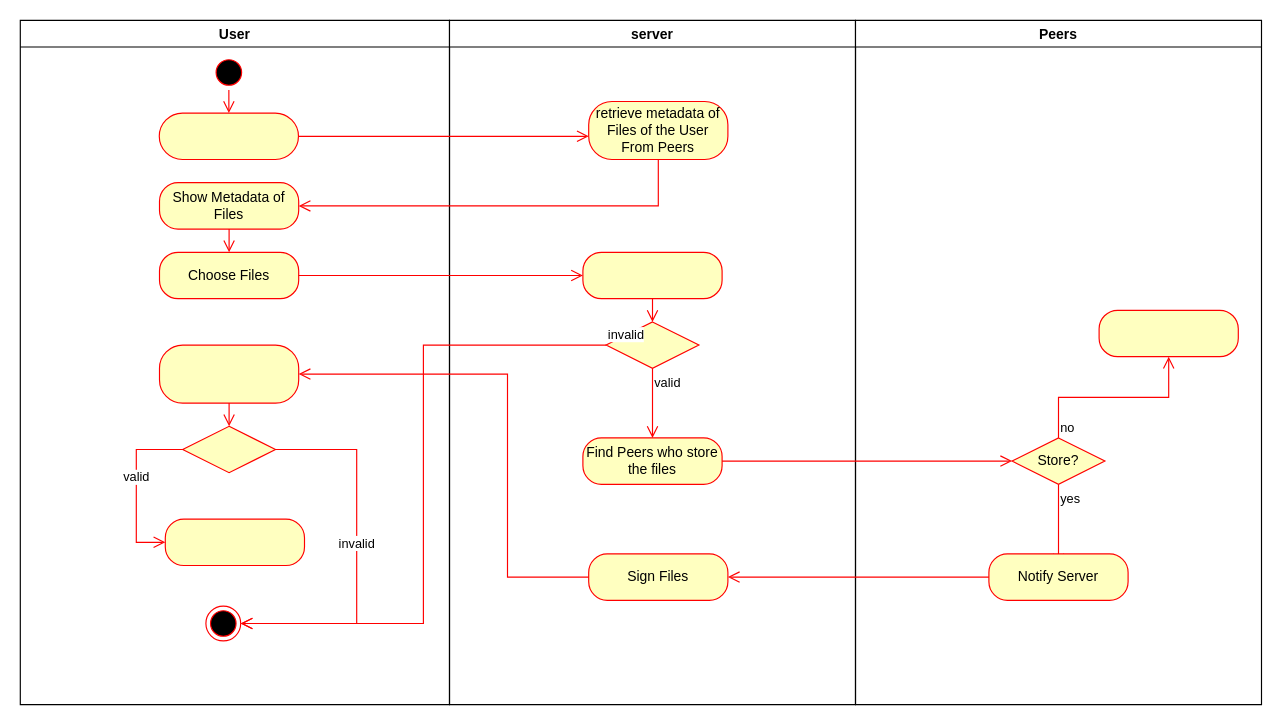
Image size: 1282x725. Some labels were removed from this diagram. Each missing label, with the centre of its shape:
"Decrypt the file using private key" goes at (234,542).
"Ignore the Message" goes at (1168,333).
"Request metadata of Files" goes at (228,136).
"Validate the Signature" goes at (652,275).
"Validate the signiture" goes at (228,373).
